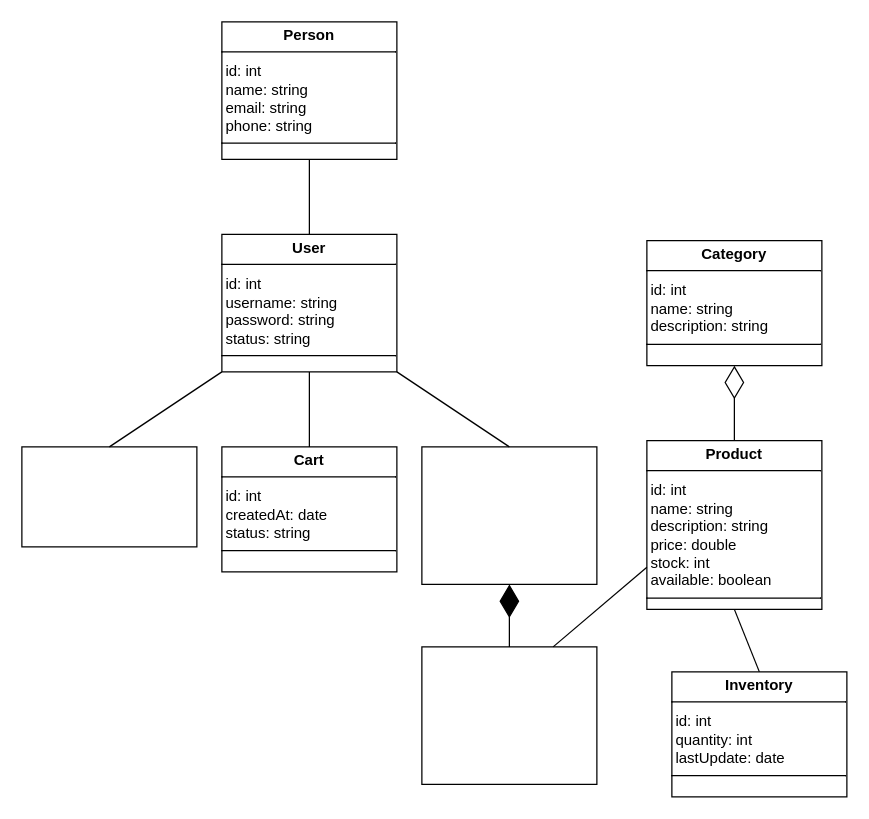
Some shapes in this 869 by 819 pixel diagram are drawn without their labels. Each missing label, with the centre of its shape:
"Bill id: int date: Date total: double status: string" goes at (x=509, y=515).
"BillDetail id: int quantity: int price: double subtotal: double" goes at (x=509, y=715).
"Role id: int name: string" goes at (x=109, y=496).
